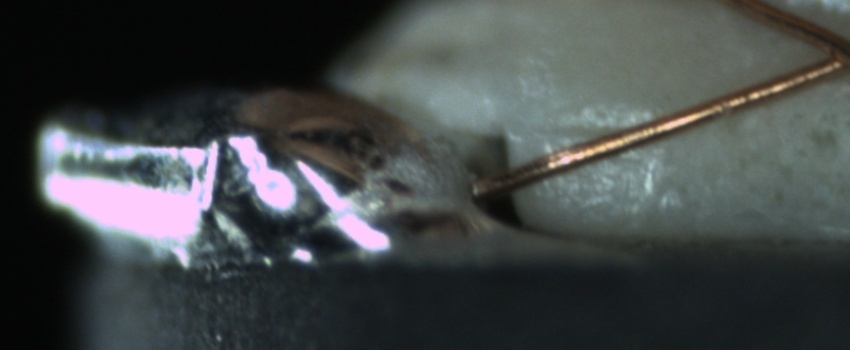CL: (798, 19, 849, 82)
DL: (527, 97, 660, 161)
